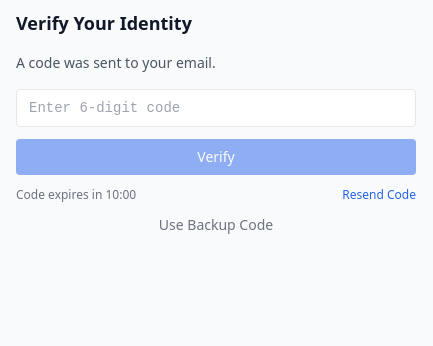
MFAChallenge › Email MFA verification › shows lockout UX copy when email MFA verify is temporarily locked
Type "111111" into the field with test id "mfa-code-input" at (216,108), box [16,89,416,127]
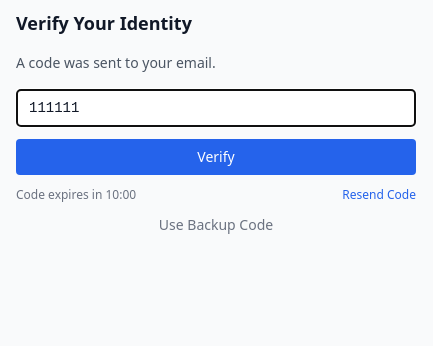
Click the button "Verify" at (216,157), box [16,139,416,175]
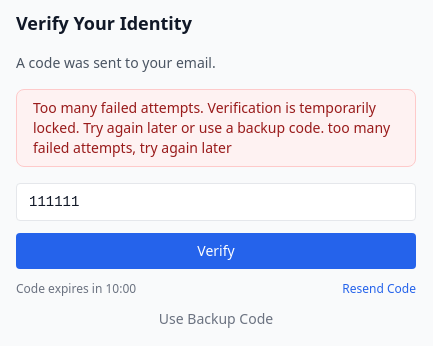
Expected: the button "Use Backup Code" is shown, [16,309,416,329]
Result: the text "temporarily locked" is shown at [33,98,390,157]
